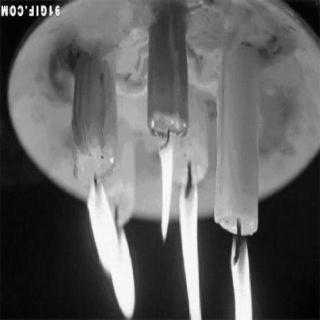Fire: (83, 179, 143, 319), (179, 182, 208, 320), (221, 231, 267, 317), (154, 145, 178, 243)
